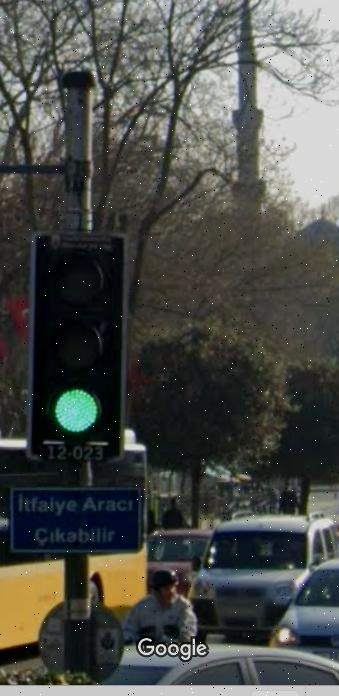greenlight: (35, 233, 123, 439)
